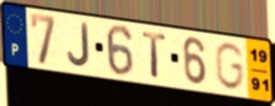6: (105, 24, 135, 79), (181, 37, 208, 87)
7: (29, 12, 58, 67)
G: (213, 40, 245, 92)
J: (66, 21, 92, 69)
T: (140, 30, 169, 81)
